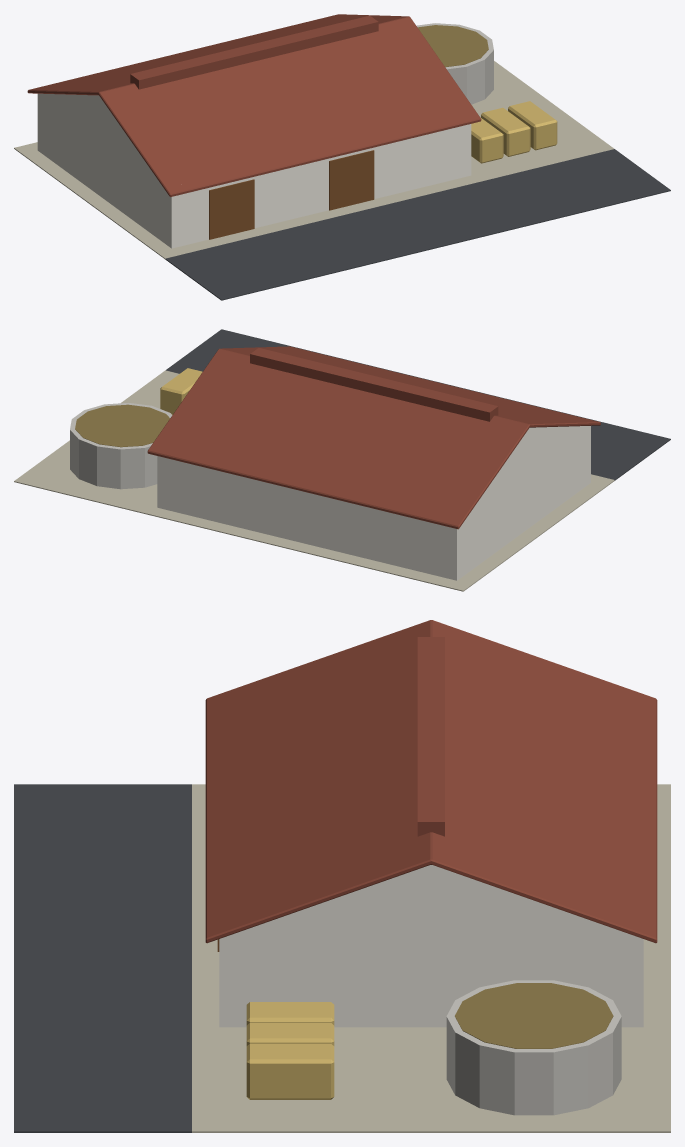
File: site_cowshed.glb
3 views of the same model, one above another, from view 1: azimuth 30°, elevation 25°; view 2: azimuth 150°, elevation 25°; view 3: azimuth 270°, elevation 25° (orthographic). The views are drawn at different scales.
Visible parts, largest first — view 1: site_cowshed; view 2: site_cowshed; view 3: site_cowshed.
Part boxes in pixels (<box>): site_cowshed: <box>14,14,670,300</box>; site_cowshed: <box>14,329,670,591</box>; site_cowshed: <box>14,620,670,1132</box>.
Size of the model in its own units: 30 by 7.4 by 24.
